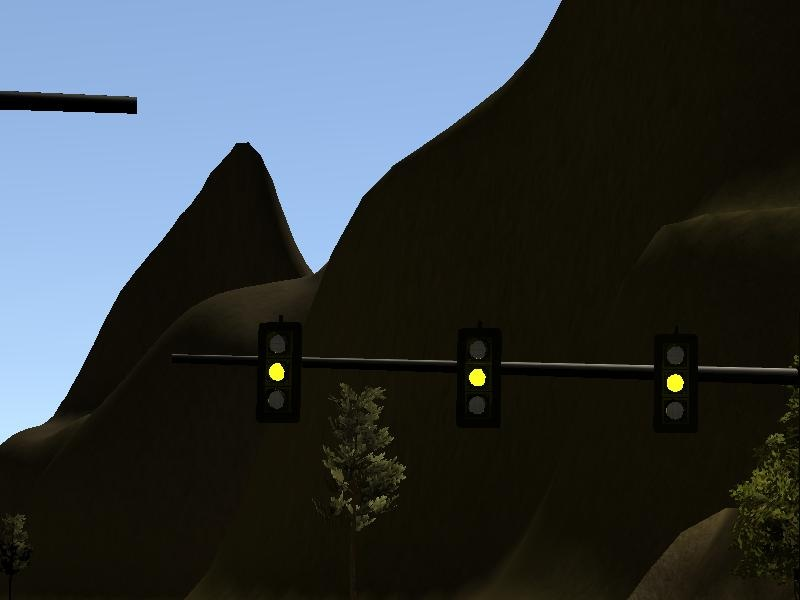yellow: (258, 324, 303, 425), (654, 335, 697, 435), (458, 330, 501, 429)
